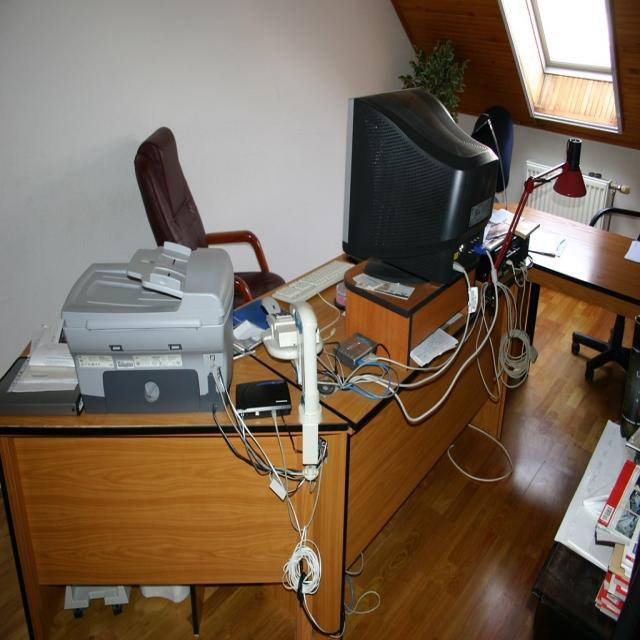Cable: (240, 263, 524, 636)
E-waste: (342, 61, 586, 255), (35, 241, 234, 407)
